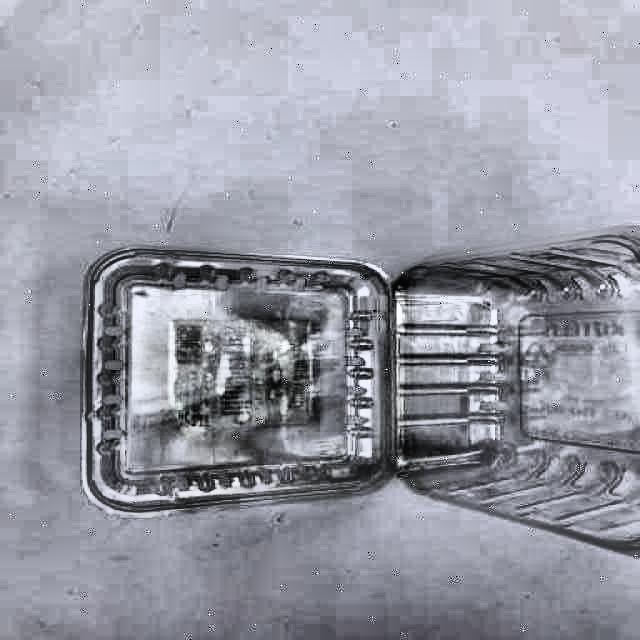plastic: (82, 228, 639, 550)
